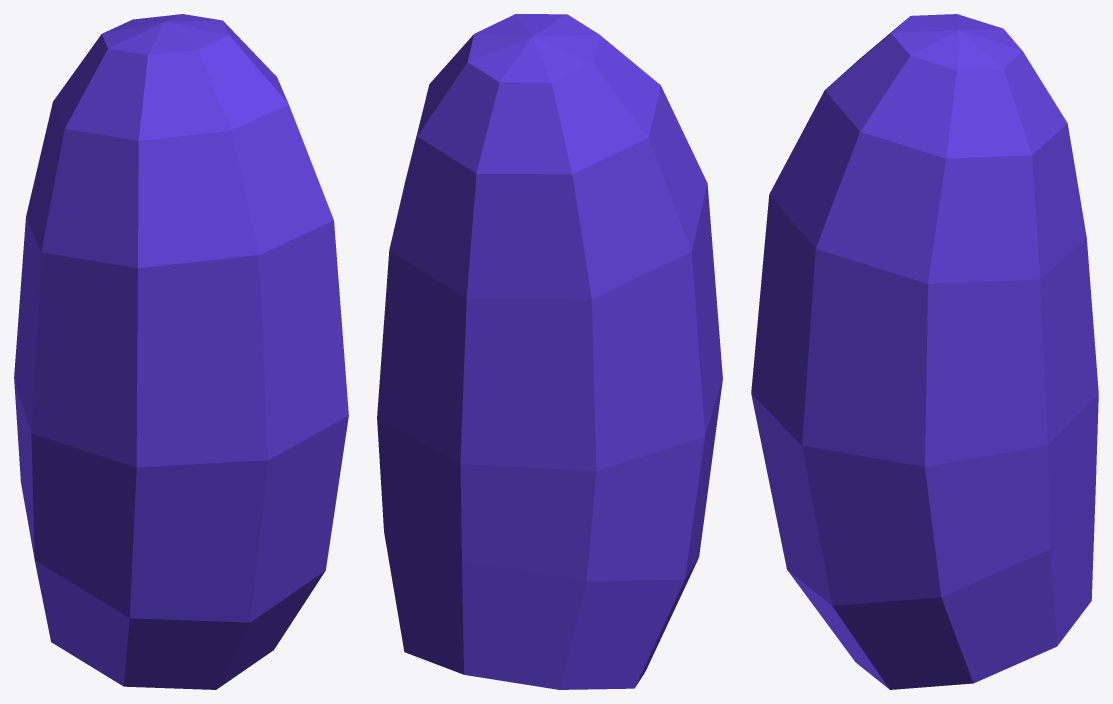
Rendered from honeyberry_basic.fbx.
3 views of the same model, side by side, from view 1: azimuth 30°, elevation 25°; view 2: azimuth 150°, elevation 25°; view 3: azimuth 270°, elevation 25° (orthographic). The views are drawn at different scales.
Parts seen in each view (by area): view 1: Sphere; view 2: Sphere; view 3: Sphere.
Boxes of the visible parts, x1=… form: Sphere: x1=14, y1=14, x2=348, y2=689; Sphere: x1=377, y1=14, x2=722, y2=689; Sphere: x1=751, y1=14, x2=1098, y2=689.
Size of the model in its own units: 200 by 401 by 200.
